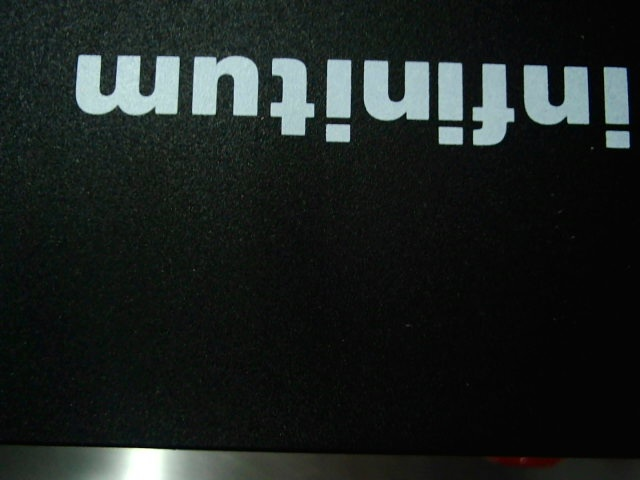BK_infinitum: (66, 40, 635, 158)
